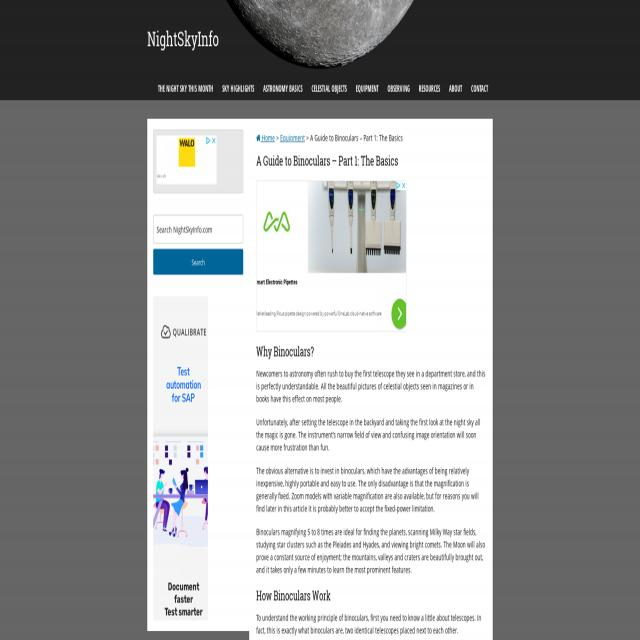button: (256, 181, 406, 332), (152, 296, 208, 621), (142, 17, 227, 57), (153, 249, 243, 275), (158, 76, 212, 100), (263, 76, 303, 100), (311, 76, 347, 100), (222, 76, 254, 100), (356, 76, 378, 100), (388, 76, 410, 100), (418, 76, 440, 100), (392, 298, 406, 330), (471, 76, 488, 100), (449, 76, 462, 100), (396, 180, 401, 190), (401, 181, 406, 190)
field: (153, 214, 243, 243)
